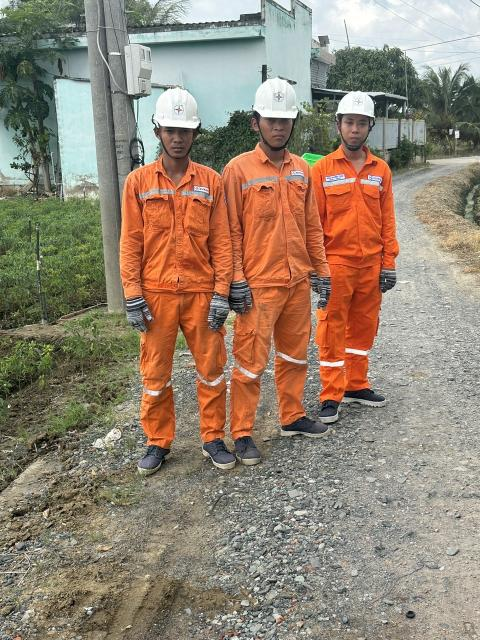gloves: (117, 288, 158, 337), (221, 281, 262, 315), (196, 296, 229, 333), (371, 264, 404, 298), (313, 265, 332, 312), (304, 272, 324, 293)
helmet: (241, 71, 311, 128), (143, 88, 210, 138), (322, 88, 380, 130)
shoes: (264, 401, 332, 441), (131, 438, 179, 478), (339, 382, 392, 415), (196, 436, 233, 478), (306, 388, 345, 427), (226, 428, 263, 468)
